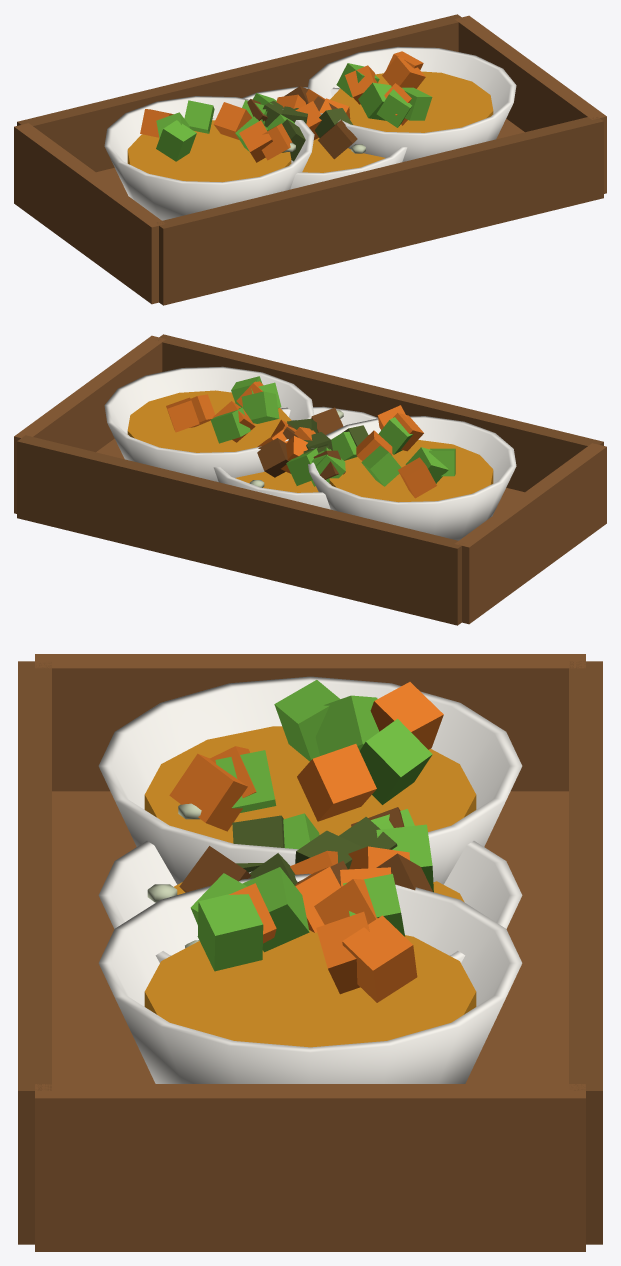
File: Soup_Vegetable.fbx
3 renders of one model, top to bottom at view 1: azimuth 30°, elevation 25°; view 2: azimuth 150°, elevation 25°; view 3: azimuth 270°, elevation 25°, orthographic. The views are drawn at different scales.
Parts seen in each view (by area): view 1: Soup_Vegetable__Stack, Soup_Vegetable, Soup_Vegetable__Rotten; view 2: Soup_Vegetable__Stack, Soup_Vegetable, Soup_Vegetable__Rotten; view 3: Soup_Vegetable__Stack, Soup_Vegetable, Soup_Vegetable__Rotten.
Part boxes in pixels (left/top/right/bottom): Soup_Vegetable__Stack: left=14, top=14, right=606, bottom=305; Soup_Vegetable: left=212, top=86, right=407, bottom=189; Soup_Vegetable__Rotten: left=247, top=86, right=365, bottom=161; Soup_Vegetable__Stack: left=14, top=334, right=606, bottom=625; Soup_Vegetable: left=213, top=406, right=377, bottom=509; Soup_Vegetable__Rotten: left=249, top=407, right=368, bottom=487; Soup_Vegetable__Stack: left=18, top=654, right=602, bottom=1251; Soup_Vegetable: left=98, top=809, right=522, bottom=962; Soup_Vegetable__Rotten: left=147, top=803, right=432, bottom=947.
Bounding box in the file's own units: 0.248 × 0.0566 × 0.138.
